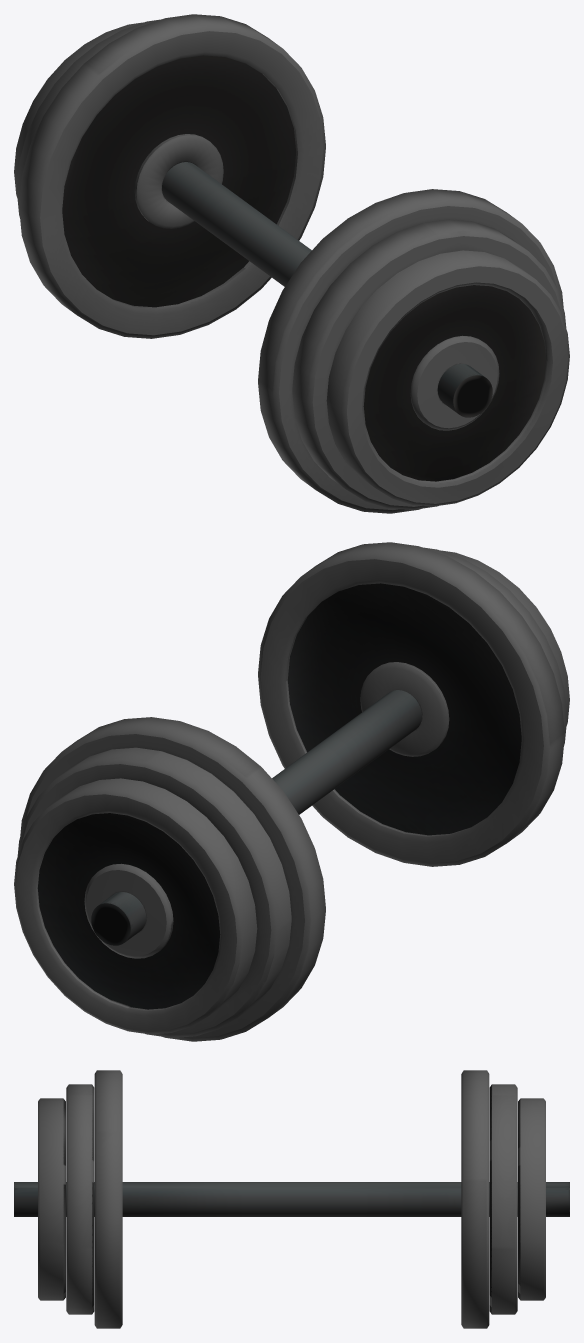
File: dumbell fbx.fbx
The picture shows the model from 3 angles, top to bottom: view 1: azimuth 30°, elevation 25°; view 2: azimuth 150°, elevation 25°; view 3: azimuth 270°, elevation 25°; orthographic projection. The views are drawn at different scales.
Parts seen in each view (by area): view 1: dumbbell; view 2: dumbbell; view 3: dumbbell.
Part boxes in pixels (bbox=[...]): dumbbell: bbox=[14, 14, 569, 513]; dumbbell: bbox=[14, 542, 569, 1041]; dumbbell: bbox=[14, 1070, 569, 1328].
Bounding box in the file's own units: 462 × 462 × 992.
1 material, 1 textured.
